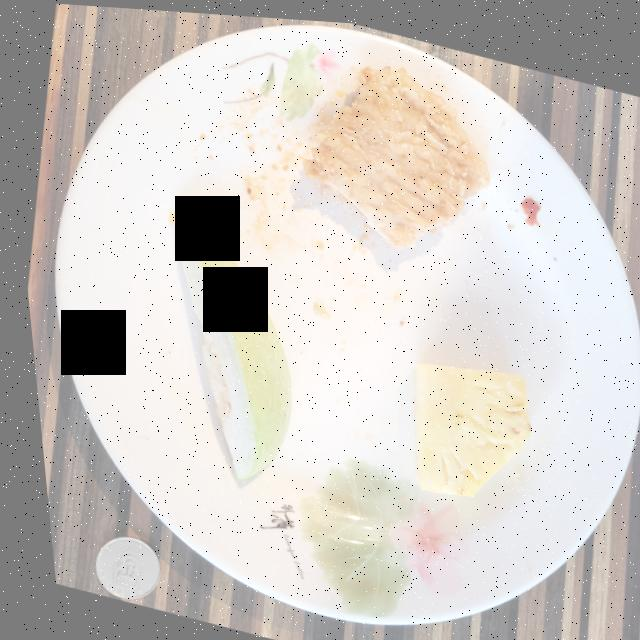coin: (84, 536, 149, 599)
fried chicken cutlet: (300, 61, 487, 243)
guava -sliced-: (173, 207, 284, 477)
pineapple: (407, 358, 523, 491)
